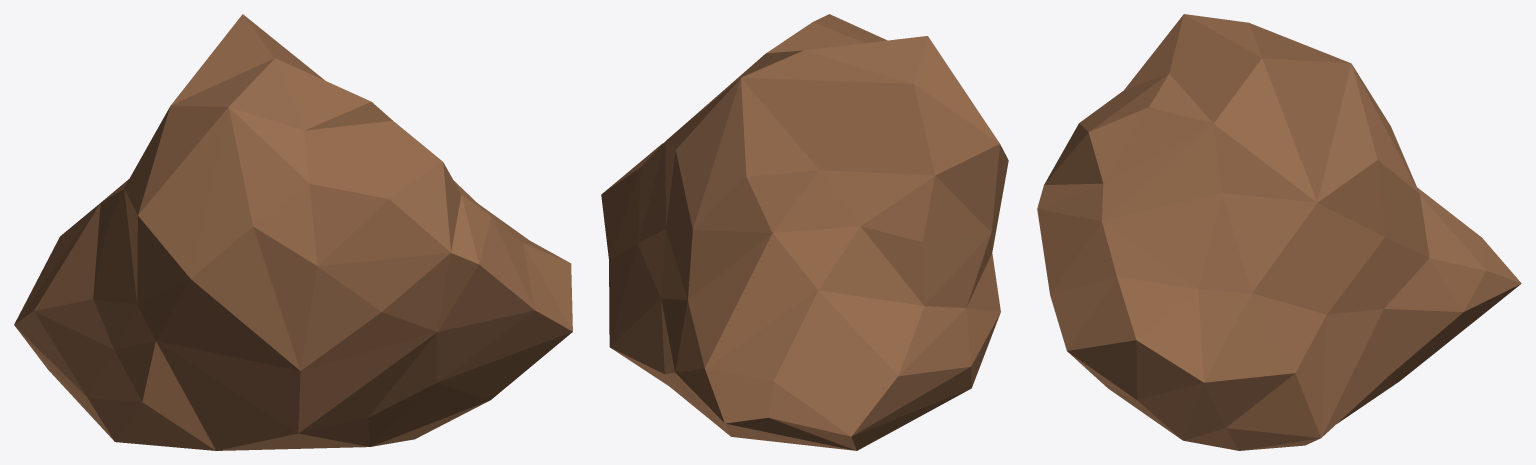
Rendered from rock01_dirt.fbx.
The picture shows the model from 3 angles, left to right: view 1: azimuth 30°, elevation 25°; view 2: azimuth 150°, elevation 25°; view 3: azimuth 270°, elevation 25°; orthographic projection. The views are drawn at different scales.
Parts seen in each view (by area): view 1: rock01_dirt_LOD0; view 2: rock01_dirt_LOD0; view 3: rock01_dirt_LOD0.
Boxes of the visible parts, x1,y1,x2,y2 form: rock01_dirt_LOD0: (14,14,572,450); rock01_dirt_LOD0: (601,14,1008,450); rock01_dirt_LOD0: (1037,14,1521,450).
Size of what is drawn, in the model's own units: 163 by 136 by 176.
